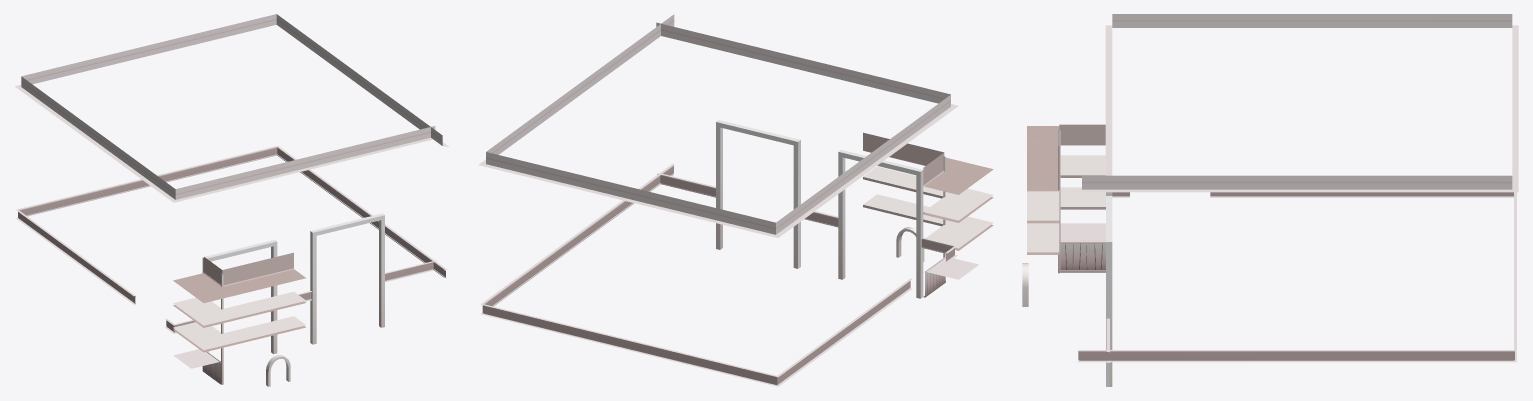
Rendered from Doll_Room_Wall_002.FBX.
3 renders of one model, left to right at view 1: azimuth 30°, elevation 25°; view 2: azimuth 150°, elevation 25°; view 3: azimuth 270°, elevation 25°, orthographic. The views are drawn at different scales.
Parts seen in each view (by area): view 1: Doll_Room_Wall_002; view 2: Doll_Room_Wall_002; view 3: Doll_Room_Wall_002.
Boxes of the visible parts, x1=… form: Doll_Room_Wall_002: x1=15, y1=14, x2=448, y2=386; Doll_Room_Wall_002: x1=478, y1=14, x2=993, y2=386; Doll_Room_Wall_002: x1=1022, y1=14, x2=1518, y2=386.
Bounding box in the file's own units: 480 × 323 × 601.
Materials: 1 (1 with a texture image).
